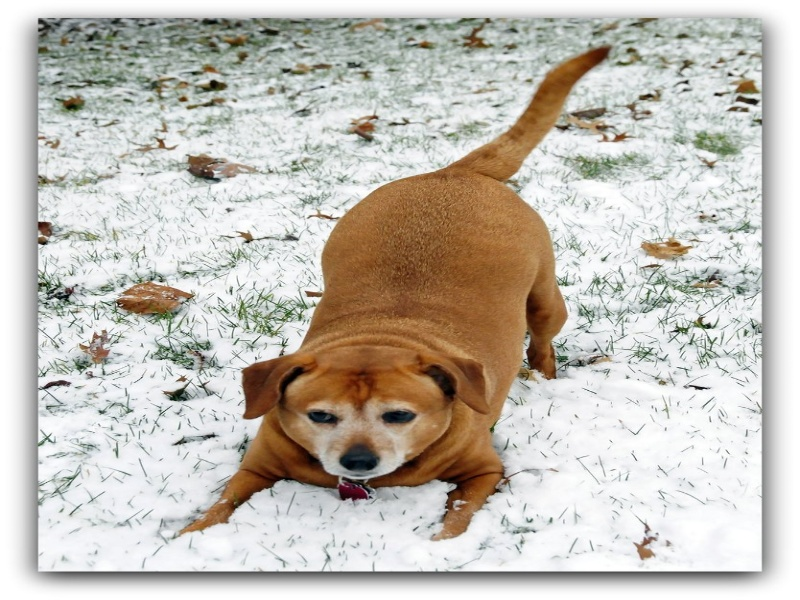dog: (199, 43, 609, 532)
